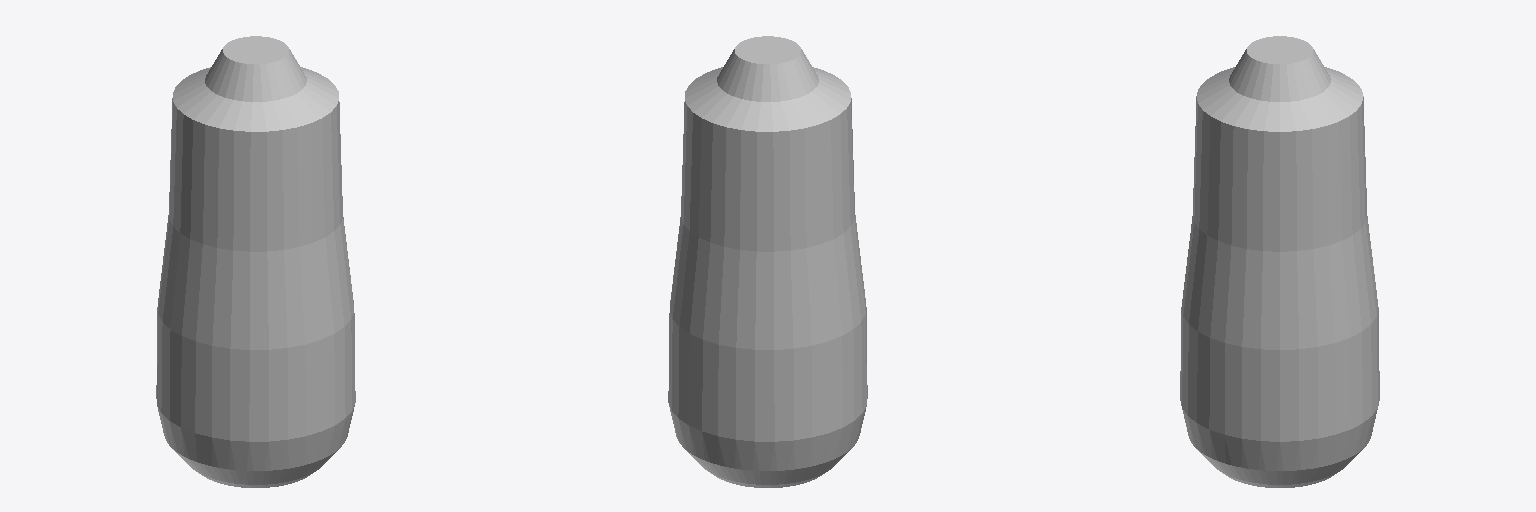
The model's file is lightglass.obj.
The picture shows the model from 3 angles: view 1: azimuth 30°, elevation 25°; view 2: azimuth 150°, elevation 25°; view 3: azimuth 270°, elevation 25°; orthographic projection.
Parts seen in each view (by area): view 1: Cylinder.190_Cylinder.024; view 2: Cylinder.190_Cylinder.024; view 3: Cylinder.190_Cylinder.024.
Part boxes in pixels (x1,y1,x2,y2): Cylinder.190_Cylinder.024: (156, 36, 355, 487); Cylinder.190_Cylinder.024: (668, 36, 867, 487); Cylinder.190_Cylinder.024: (1180, 36, 1379, 487).
Bounding box in the file's own units: 1.91 × 4.34 × 1.91.